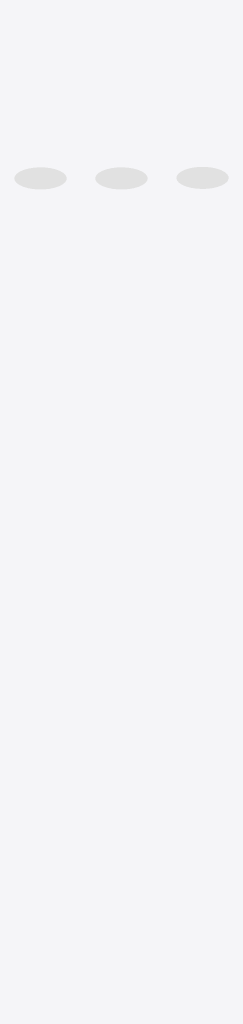
Rendered from measuring_cylinder_ADAP.glb.
The picture shows the model from 3 angles, left to right: view 1: azimuth 30°, elevation 25°; view 2: azimuth 150°, elevation 25°; view 3: azimuth 330°, elevation 25°; orthographic projection.
Parts seen in each view (by area): view 1: Cap_1_2; view 2: Cap_1_2; view 3: Cap_1_2.
Boxes of the visible parts, x1,y1,x2,y2 form: Cap_1_2: (14, 167, 66, 189); Cap_1_2: (95, 167, 147, 189); Cap_1_2: (176, 167, 228, 188).
Bounding box in the file's own units: 52.96 × 1114 × 53.04.
2 materials, 2 textured.
